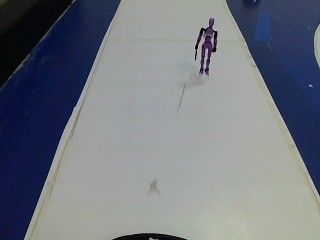pedestrian: (191, 12, 223, 81)
